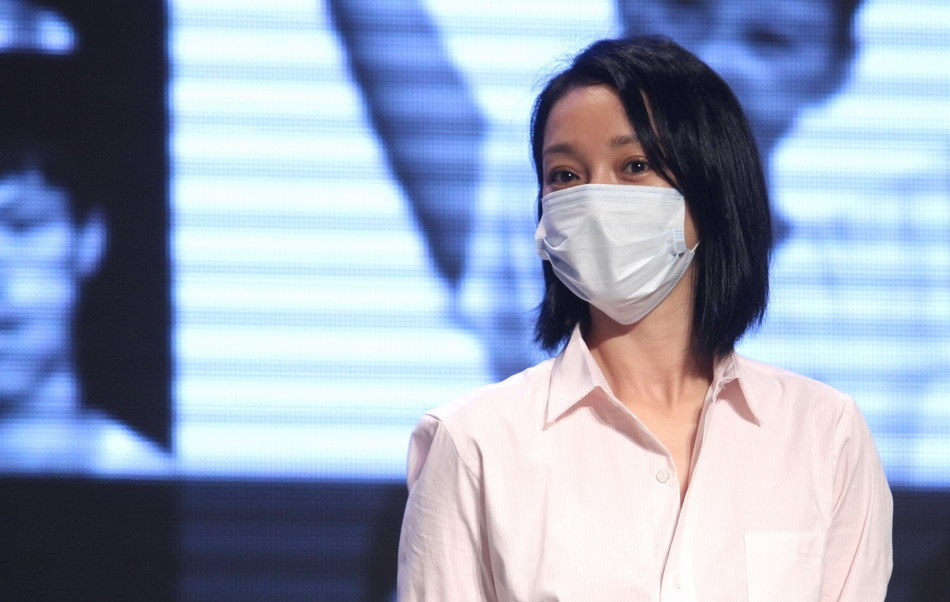face_mask: (540, 83, 693, 322)
